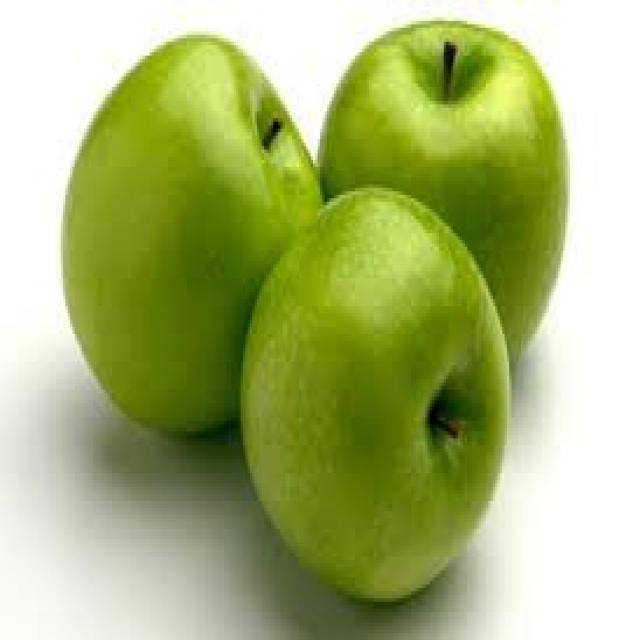organic waste: (238, 184, 509, 609), (58, 35, 320, 445), (316, 17, 566, 400)
